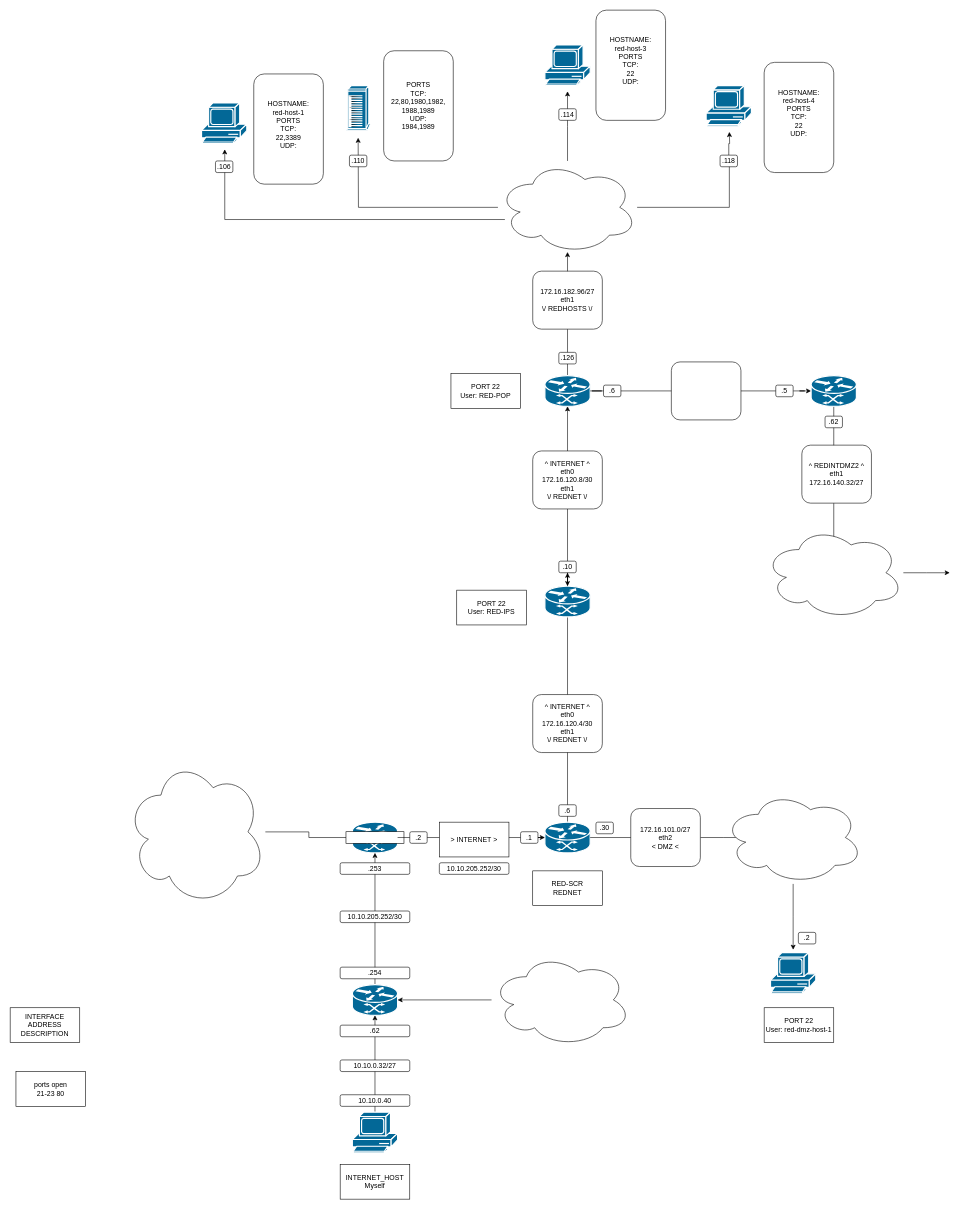
Some shapes in this 965 by 1209 pixel diagram are drawn without their labels. Here are the shapes that lost their labels. From the top down, the box of each, then its label:
(497, 160, 637, 254): REDHOSTS
(671, 361, 741, 420): > REDINTDMZ > eth0 172.16.140.4/30 eth2 < REDINTDMZ <
(764, 526, 903, 619): REDINTDMZ2
(126, 758, 265, 905): BLUE SPACE
(345, 831, 404, 843): INFRA-ROUTER
(723, 791, 863, 884): DMZ
(491, 953, 631, 1046): PUBLIC NETWORK
